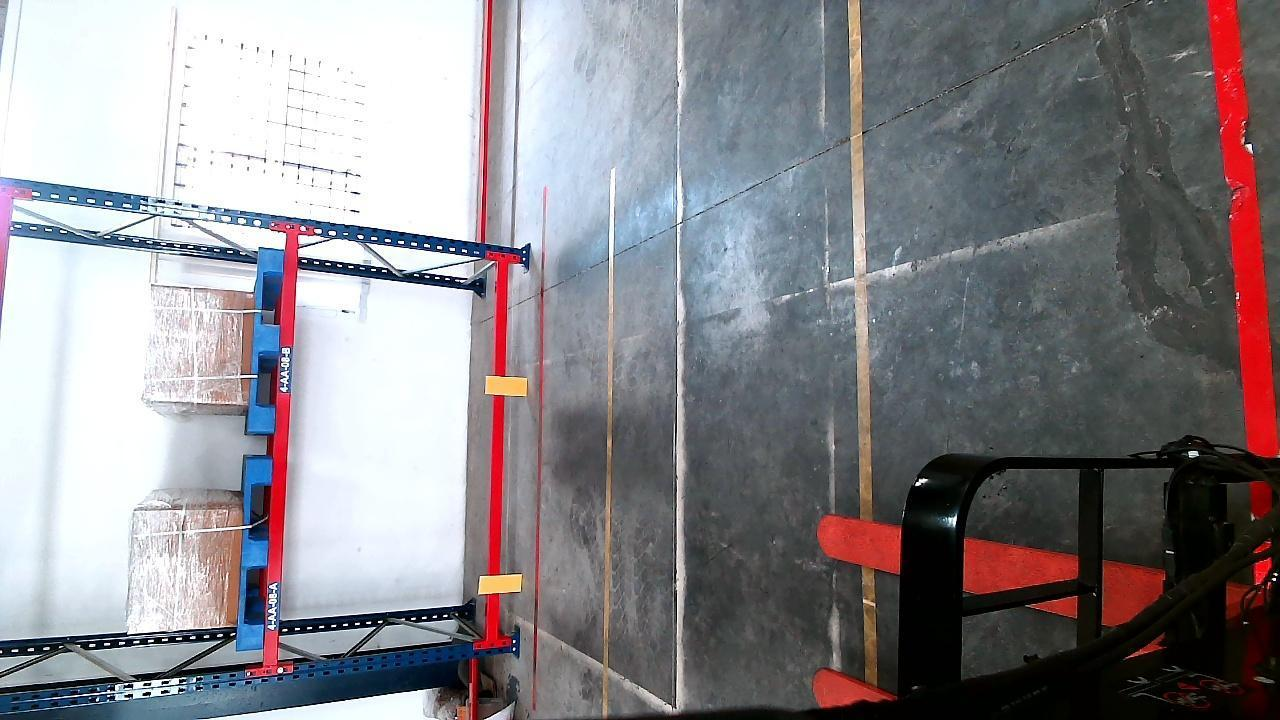h_rack: (1203, 0, 1278, 464), (261, 232, 298, 672), (488, 261, 508, 660)
orange_strip: (481, 571, 525, 595), (488, 374, 531, 397)
small_pallet: (250, 253, 284, 442), (239, 482, 274, 643)
yellow_line: (601, 166, 617, 719)
